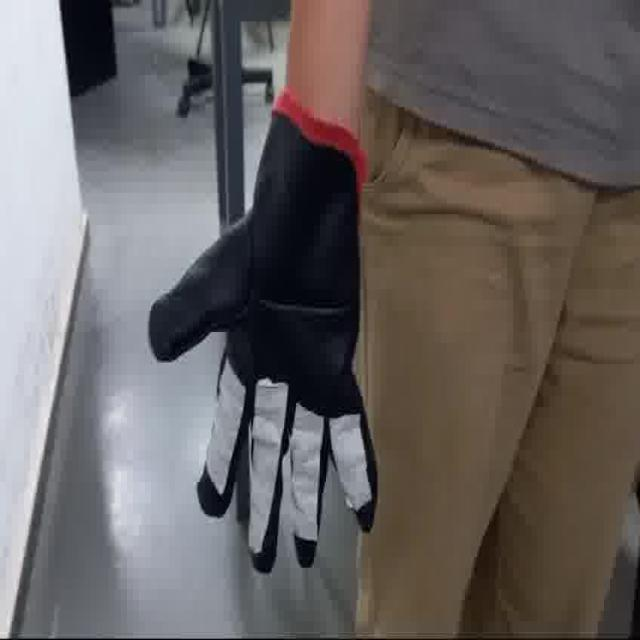Gloves: (150, 104, 378, 581)
